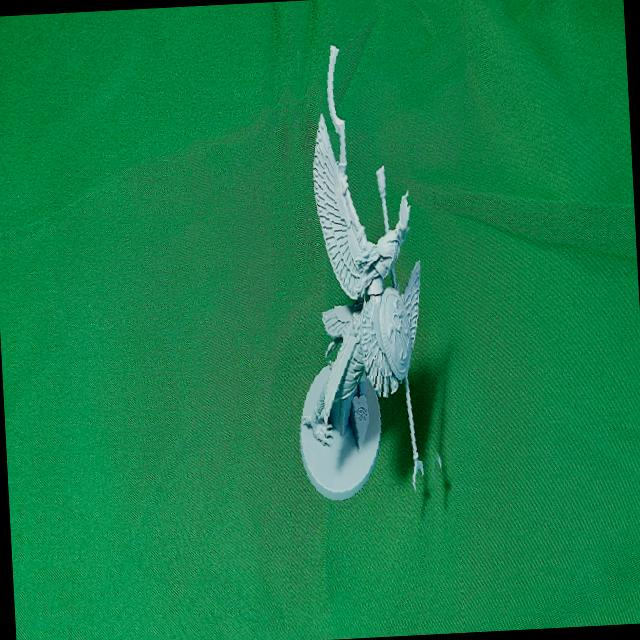isis: (238, 0, 483, 640)
